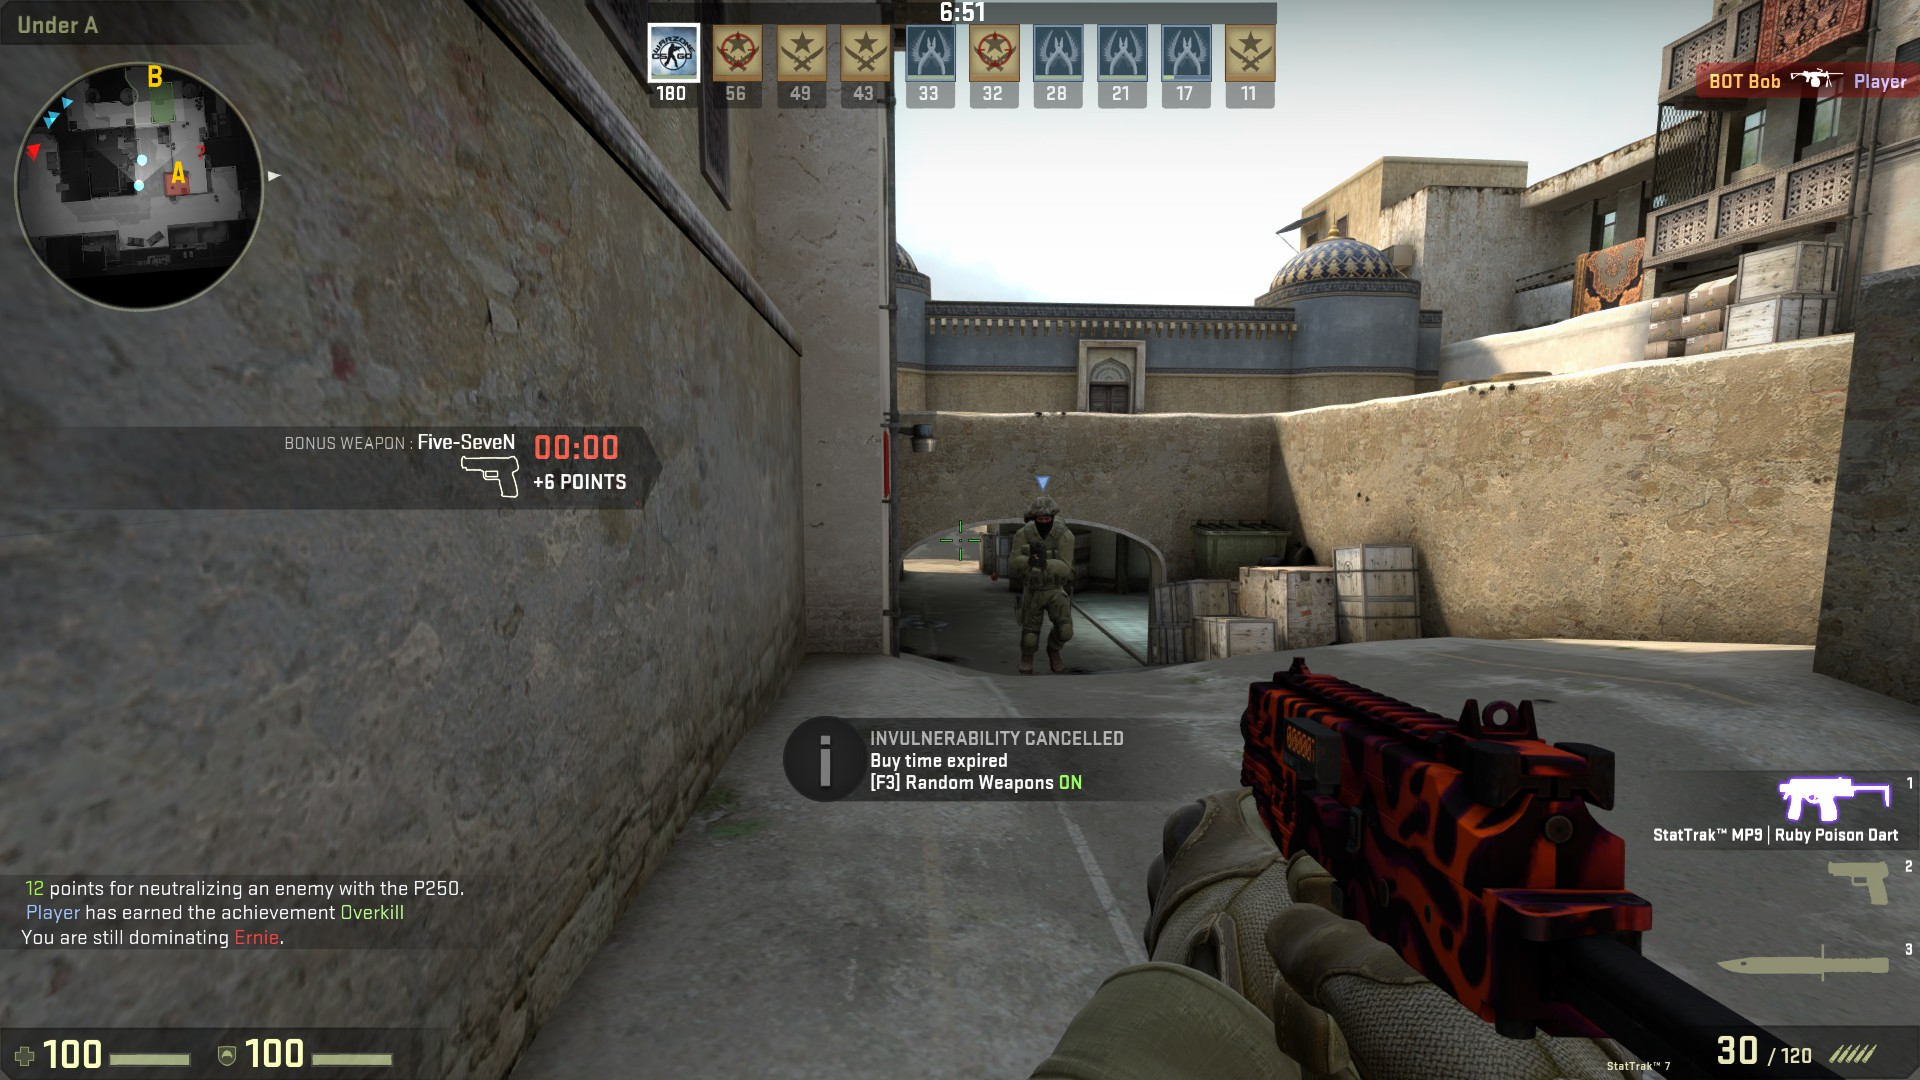c: (1011, 497, 1077, 673)
ch: (1026, 495, 1060, 538)
